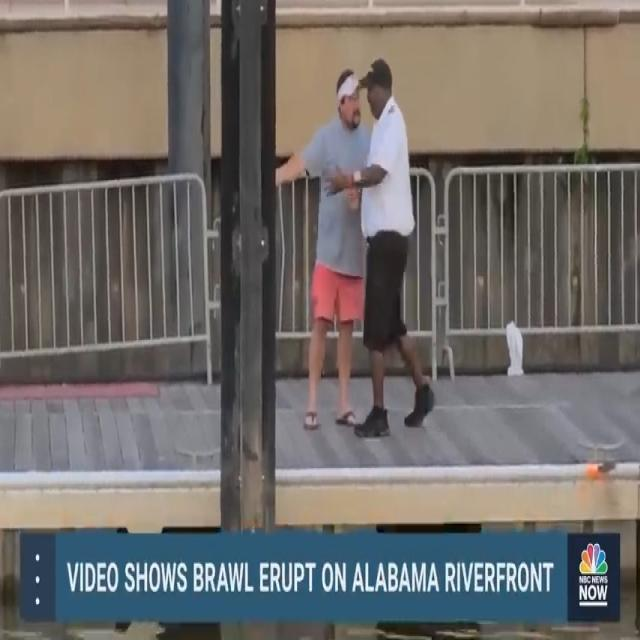non-fight: (276, 56, 441, 442)
